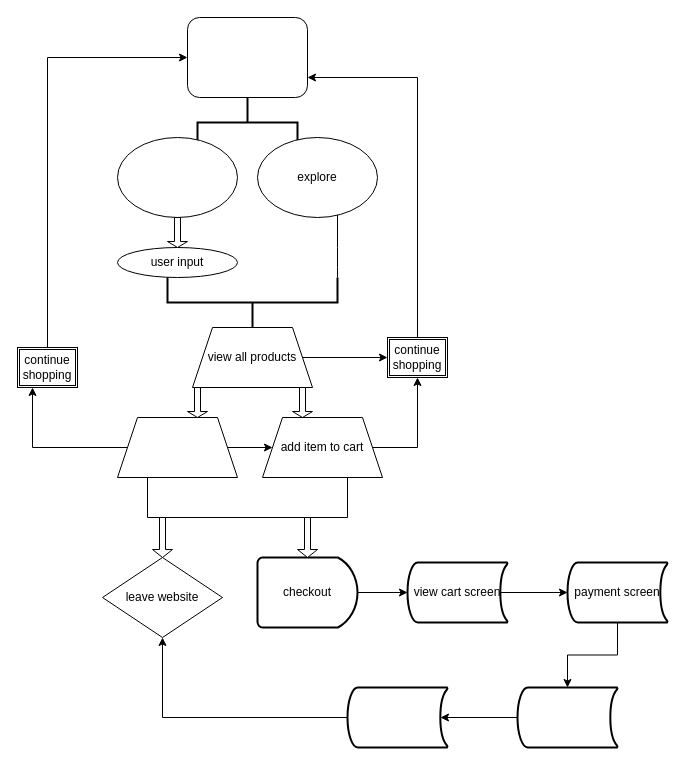
The diagram is 686 pixels wide and 766 high, and some of its shapes have lost their labels. The shapes that lost their labels are listed below. From the top down, each one's centre as x and y in pixels, then its label:
At point (247, 57): "User enters website".
At point (177, 177): "search".
At point (177, 447): "View single product".
At point (397, 717): "order confirmation".
At point (567, 717): "input payment".
